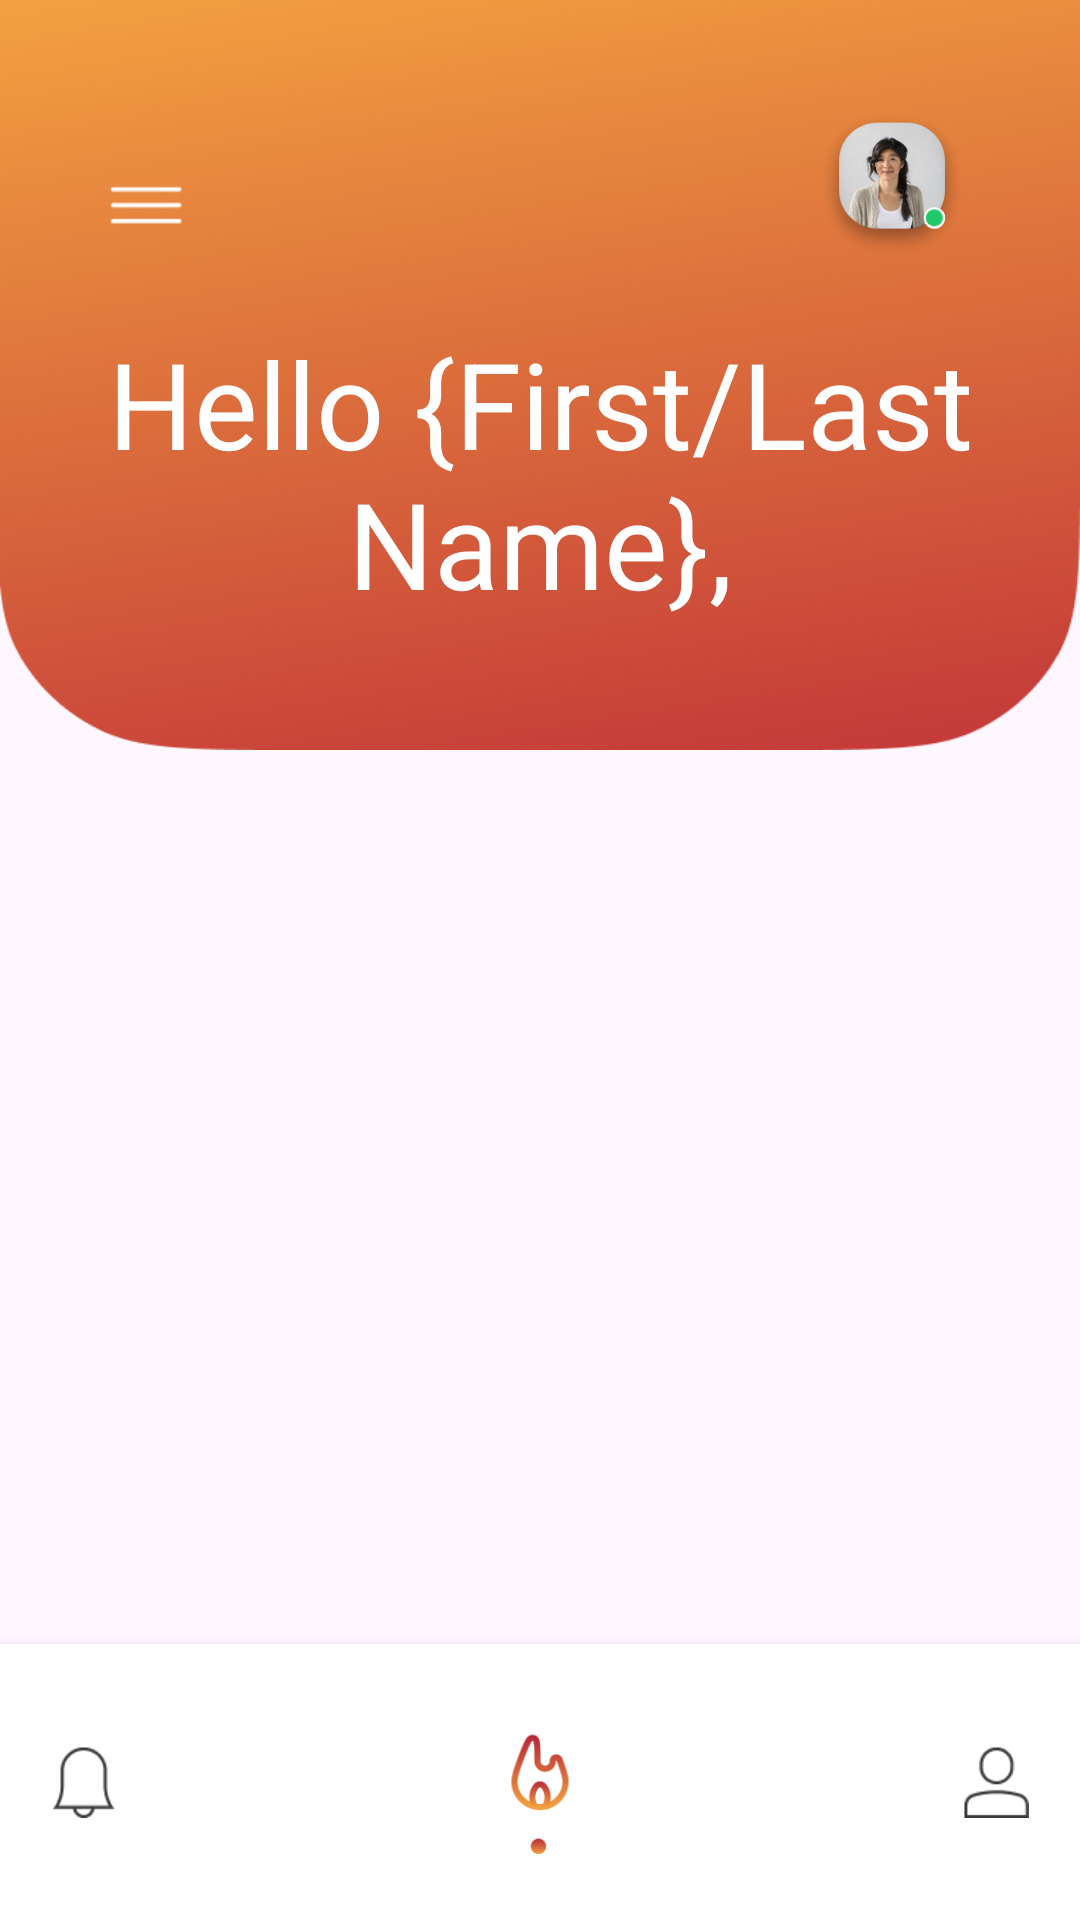

Point at icon controls on the screen. Image size 1080*1920, points as (x=x, y=y).
fire: (x=540, y=1794)
menu: (x=146, y=205)
notification: (x=84, y=1782)
profile: (x=892, y=183), (x=996, y=1782)
